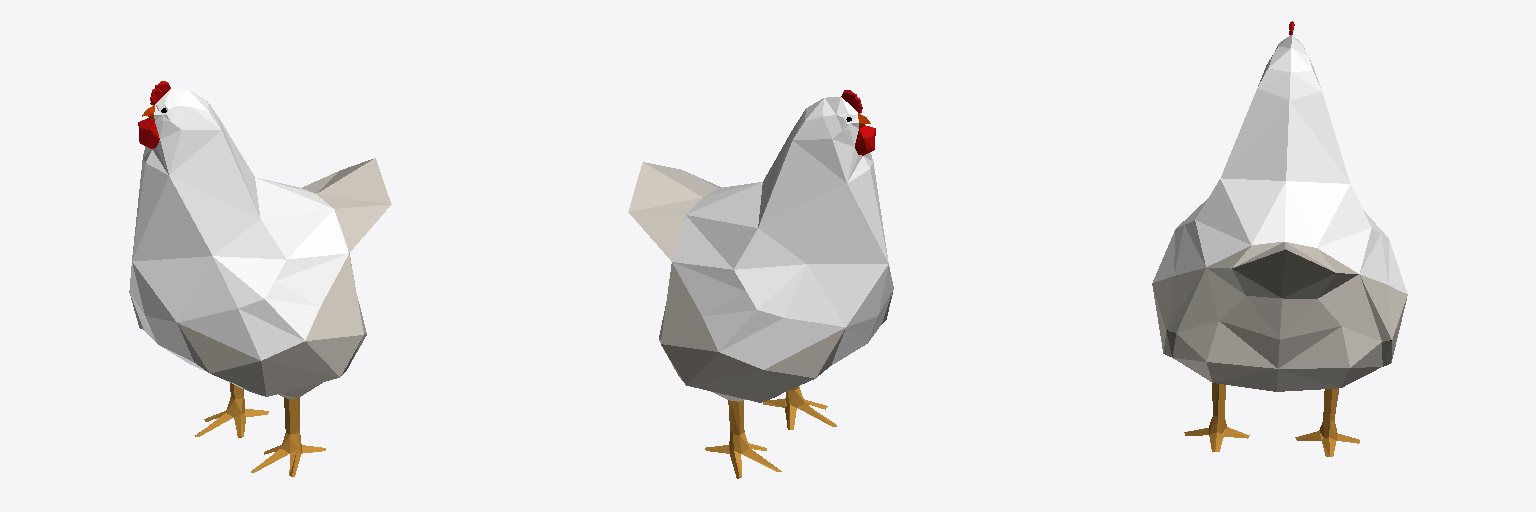
Rendered from testchicks.obj.
The picture shows the model from 3 angles: view 1: azimuth 30°, elevation 25°; view 2: azimuth 150°, elevation 25°; view 3: azimuth 270°, elevation 25°; orthographic projection.
Parts seen in each view (by area): view 1: node_chicken_-4772; view 2: node_chicken_-4772; view 3: node_chicken_-4772.
Boxes of the visible parts, box(x1,y1,x2,y2) form: node_chicken_-4772: box(129, 81, 391, 476); node_chicken_-4772: box(628, 90, 893, 478); node_chicken_-4772: box(1152, 21, 1407, 456).
Size of the model in its own units: 0.4728 by 0.7077 by 0.4275.